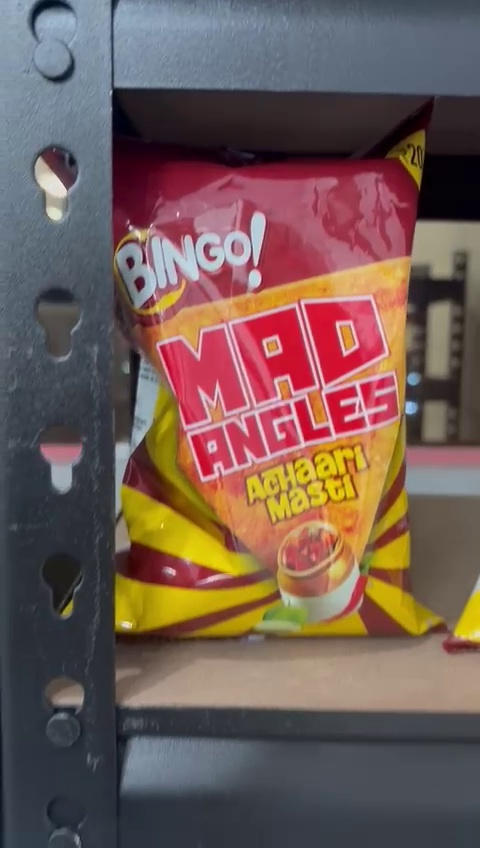Bingo Mad Angles: (115, 154, 424, 635)
